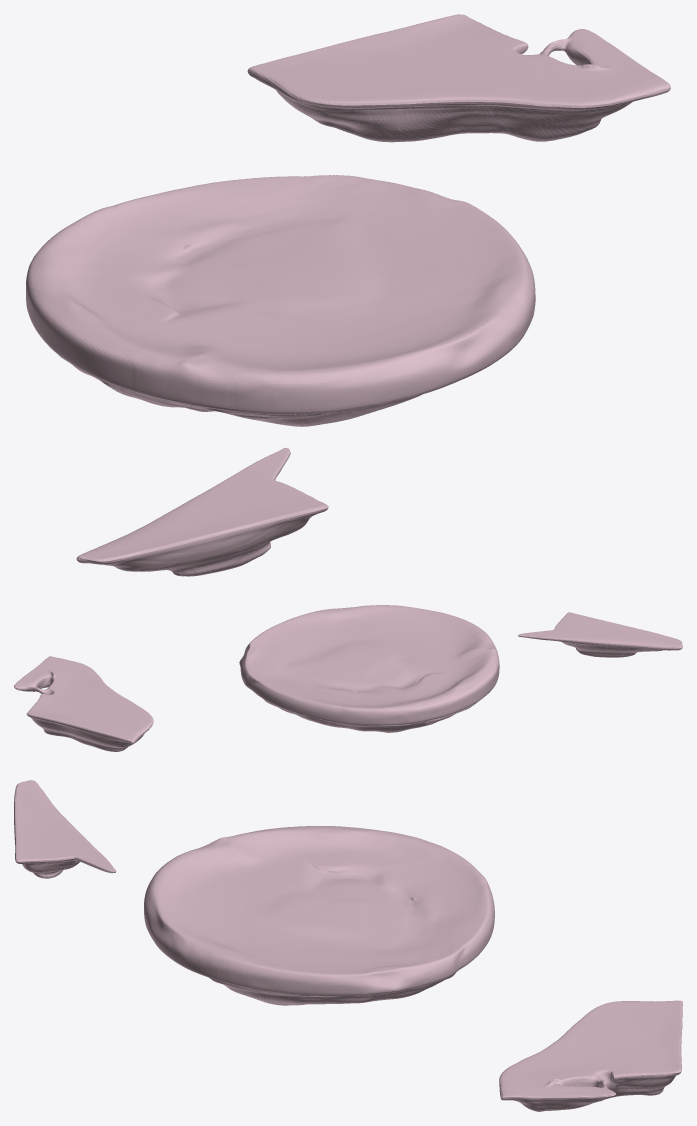
Rendered from mug_01.glb.
The picture shows the model from 3 angles, top to bottom: view 1: azimuth 30°, elevation 25°; view 2: azimuth 150°, elevation 25°; view 3: azimuth 270°, elevation 25°; orthographic projection. The views are drawn at different scales.
Parts seen in each view (by area): view 1: world; view 2: world; view 3: world.
Part boxes in pixels (x1,y1,x2,y2): world: [26, 14, 670, 576]; world: [14, 605, 682, 751]; world: [14, 780, 682, 1111].
Bounding box in the file's own units: 1.99 × 0.2032 × 1.77.
